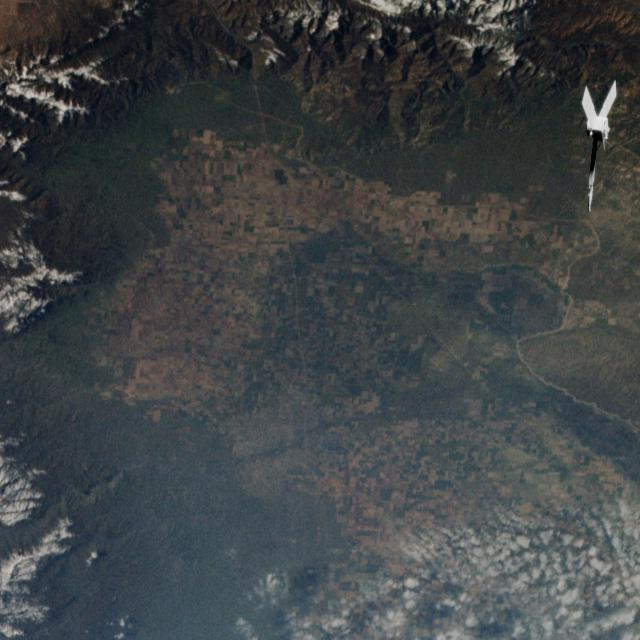satellite: (558, 63, 622, 224)
